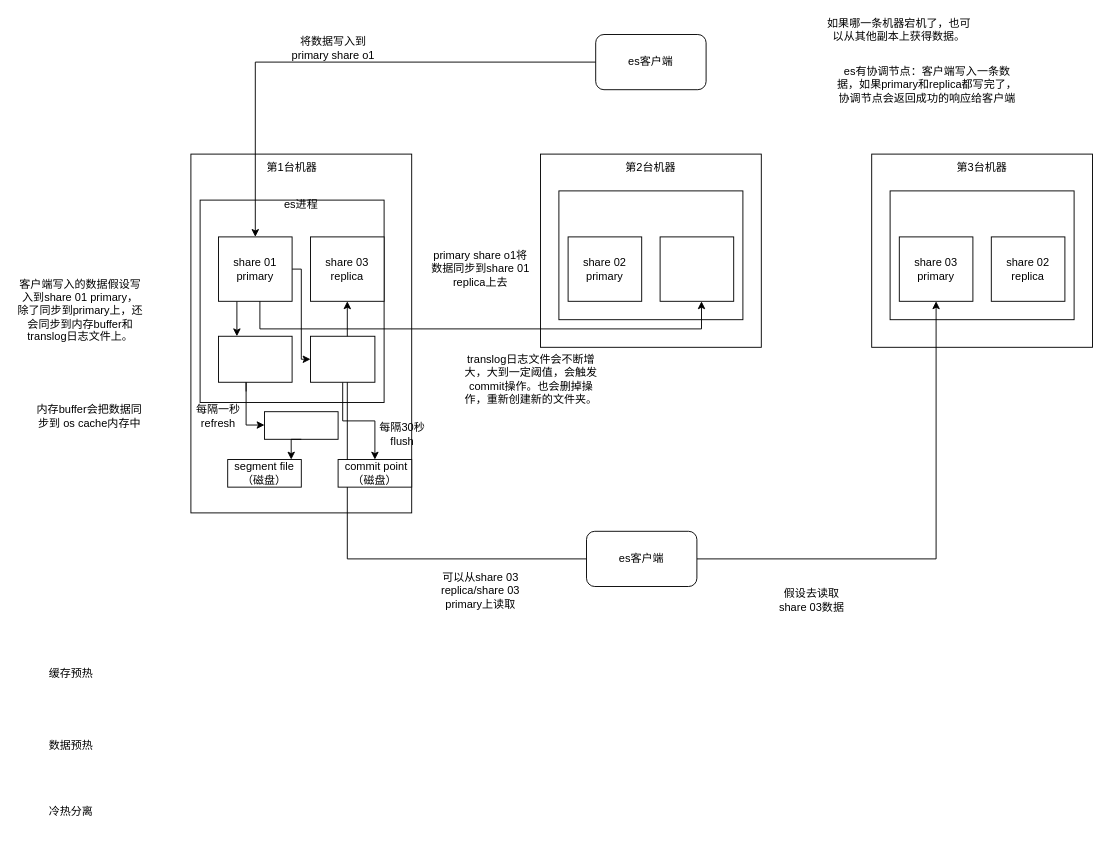
The diagram is 1109 pixels wide and 841 high, and some of its shapes have lost their labels. The shapes that lost their labels are listed below. From the top down, each one's centre as x and y in pixels, then its label:
At (696,268): "share 01 replica".
At (255,358): "内存buffer".
At (342,358): "translog 日志文件".
At (301,425): "os cache".
